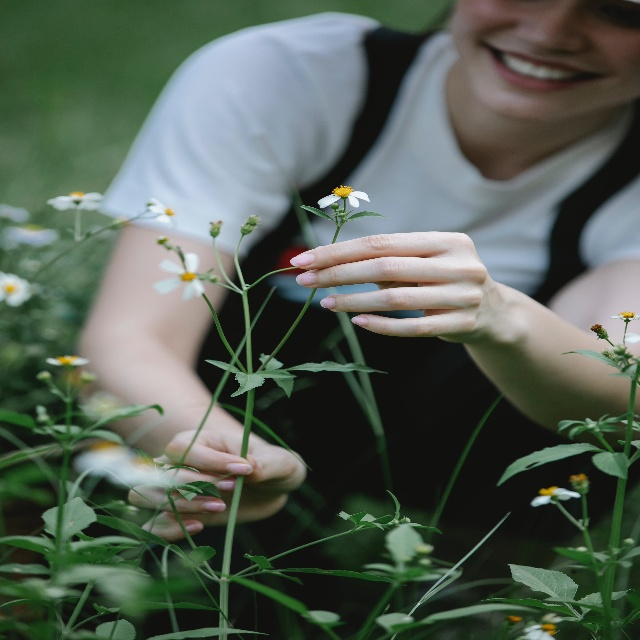Sin_guantes: (290, 232, 505, 344), (128, 430, 308, 540)
